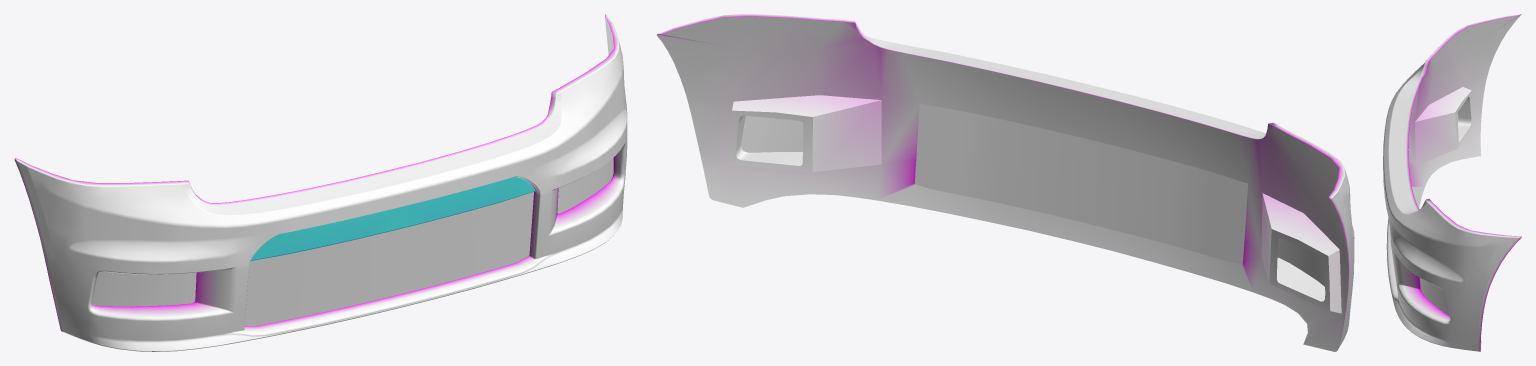
The model's file is Car_Mini_CountrymanJCW_2017_BumperF_SetD.fbx.
The picture shows the model from 3 angles, left to right: view 1: azimuth 30°, elevation 25°; view 2: azimuth 150°, elevation 25°; view 3: azimuth 270°, elevation 25°; orthographic projection. The views are drawn at different scales.
Visible parts, largest first — view 1: BumperF 6; view 2: BumperF 6; view 3: BumperF 6.
Boxes of the visible parts, <box> form: BumperF 6: <box>14,14,627,351</box>; BumperF 6: <box>656,14,1354,351</box>; BumperF 6: <box>1383,14,1521,351</box>.
Bounding box in the file's own units: 1.74 × 0.4511 × 0.4578.
